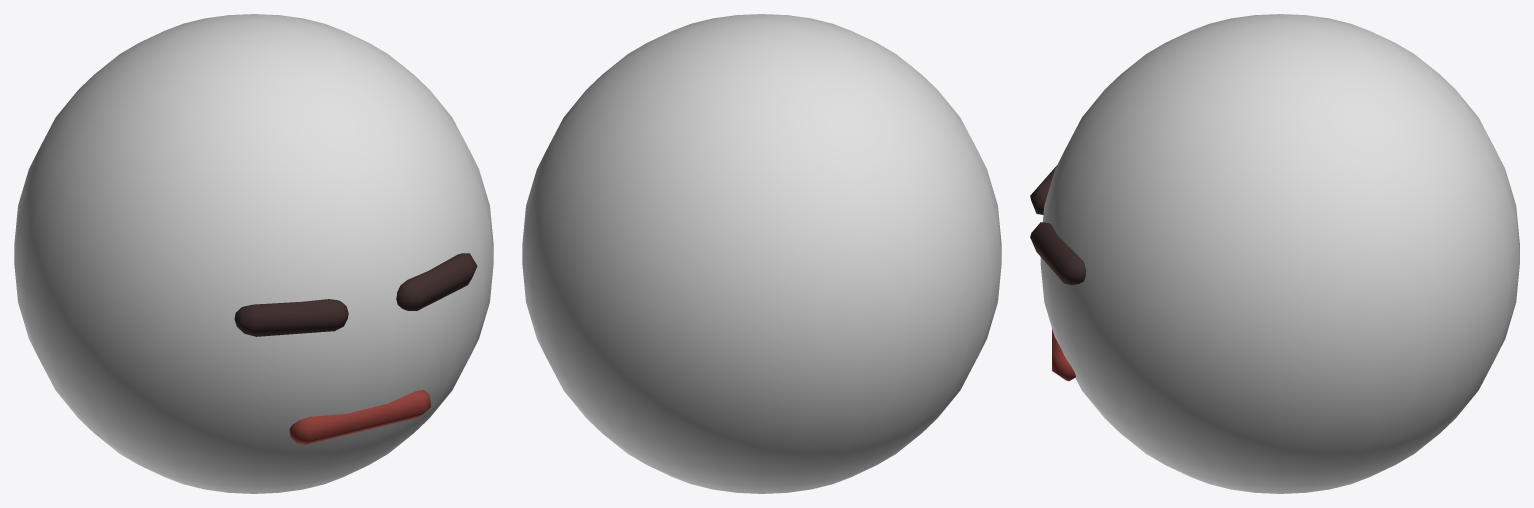
Rendered from face_expressionless.glb.
3 renders of one model, left to right at view 1: azimuth 30°, elevation 25°; view 2: azimuth 150°, elevation 25°; view 3: azimuth 270°, elevation 25°, orthographic.
Parts seen in each view (by area): view 1: face_expressionless; view 2: face_expressionless; view 3: face_expressionless.
Boxes of the visible parts, <box> form: face_expressionless: <box>14,14,493,493</box>; face_expressionless: <box>522,14,1001,493</box>; face_expressionless: <box>1030,14,1519,493</box>.
Bounding box in the file's own units: 1 × 1 × 1.02.
